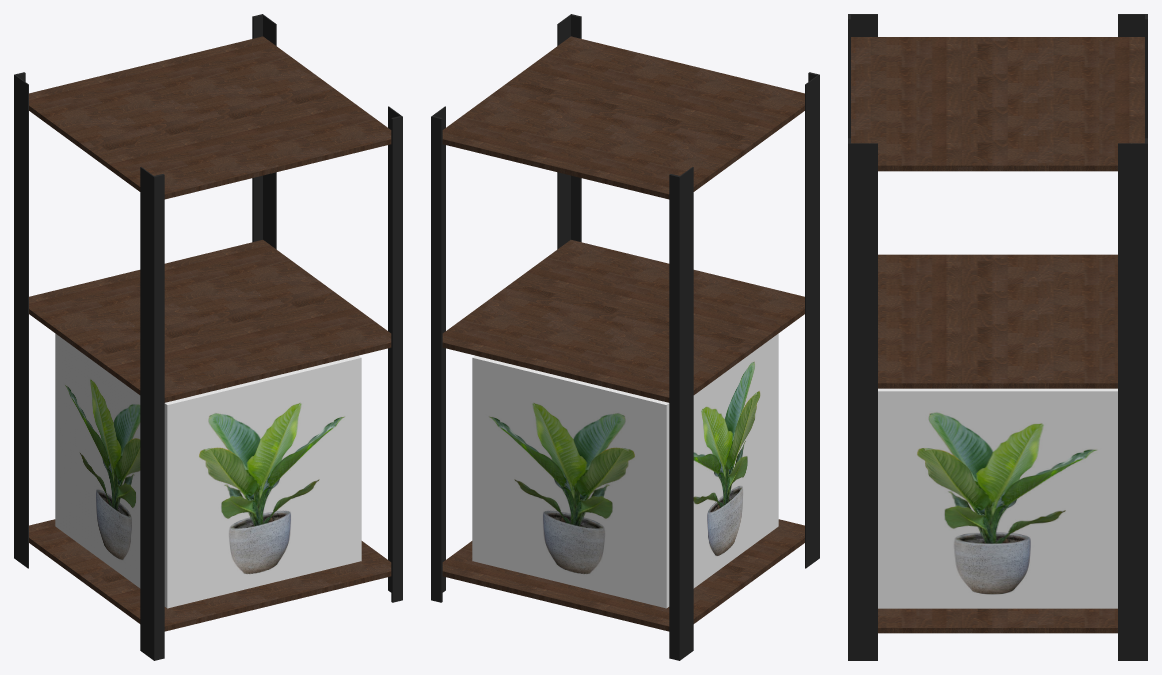
File: small_rack_potted.dae
3 views of the same model, side by side, from view 1: azimuth 30°, elevation 25°; view 2: azimuth 150°, elevation 25°; view 3: azimuth 270°, elevation 25° (orthographic). The views are drawn at different scales.
Visible parts, largest first — view 1: Cube.001, Family2 Family2 [5175].001, Family2 Family2 [5175].002, Extrusion [3348], Family2 Family2 [5175]; view 2: Cube.001, Family2 Family2 [5175].001, Family2 Family2 [5175].002, Extrusion [3348], Family2 Family2 [5175]; view 3: Cube.001, Family2 Family2 [5175].001, Extrusion [3348], Family2 Family2 [5175].002, Family2 Family2 [5175].
Boxes of the visible parts, x1,y1,x2,y2 form: Cube.001: (55, 333, 361, 608); Family2 Family2 [5175].001: (29, 36, 391, 199); Family2 Family2 [5175].002: (29, 240, 391, 402); Extrusion [3348]: (14, 14, 402, 660); Family2 Family2 [5175]: (29, 519, 391, 631); Cube.001: (472, 333, 778, 608); Family2 Family2 [5175].001: (442, 36, 804, 199); Family2 Family2 [5175].002: (442, 240, 804, 402); Extrusion [3348]: (431, 14, 819, 660); Family2 Family2 [5175]: (442, 519, 804, 631); Cube.001: (878, 388, 1117, 608); Family2 Family2 [5175].001: (851, 37, 1144, 171); Extrusion [3348]: (848, 14, 1147, 660); Family2 Family2 [5175].002: (878, 254, 1117, 388); Family2 Family2 [5175]: (878, 608, 1117, 633).
Bounding box in the file's own units: 0.5118 × 0.5 × 0.9514.
Materials: 3 (2 with a texture image).
